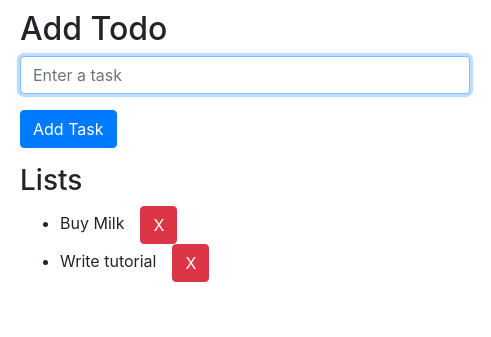
Form › should add a new todo
This screenshot has width=491, height=337.
In the field with test id "form-control": (245, 75) [20,56,470,94], type "Learn about cypress"
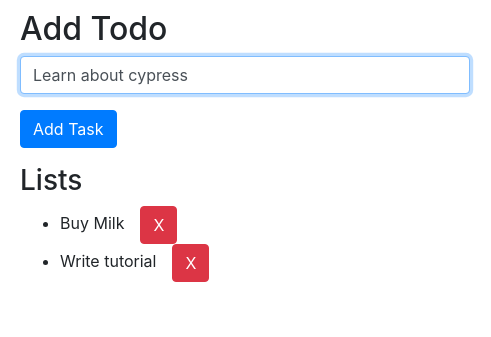
Press Enter in the field with test id "form-control", box [20,56,470,94]
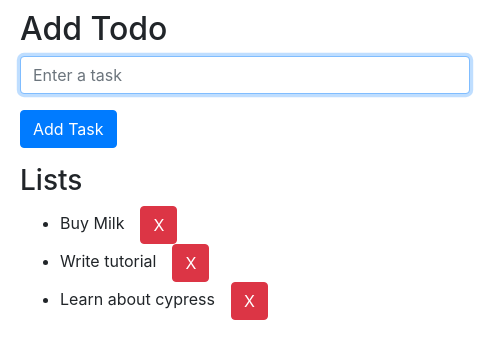
Result: the number of list items is 3 at [60,206,177,244]; [60,244,209,282]; [60,282,268,320]
